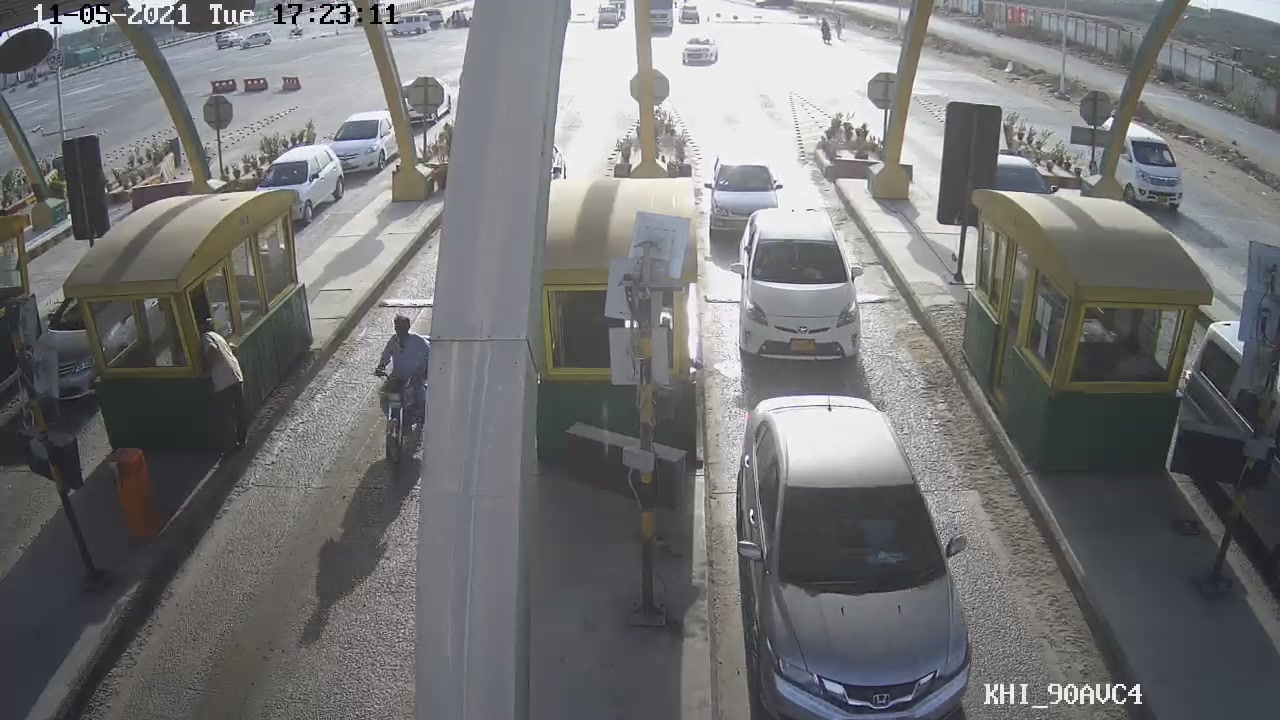F1: (729, 204, 873, 372)
